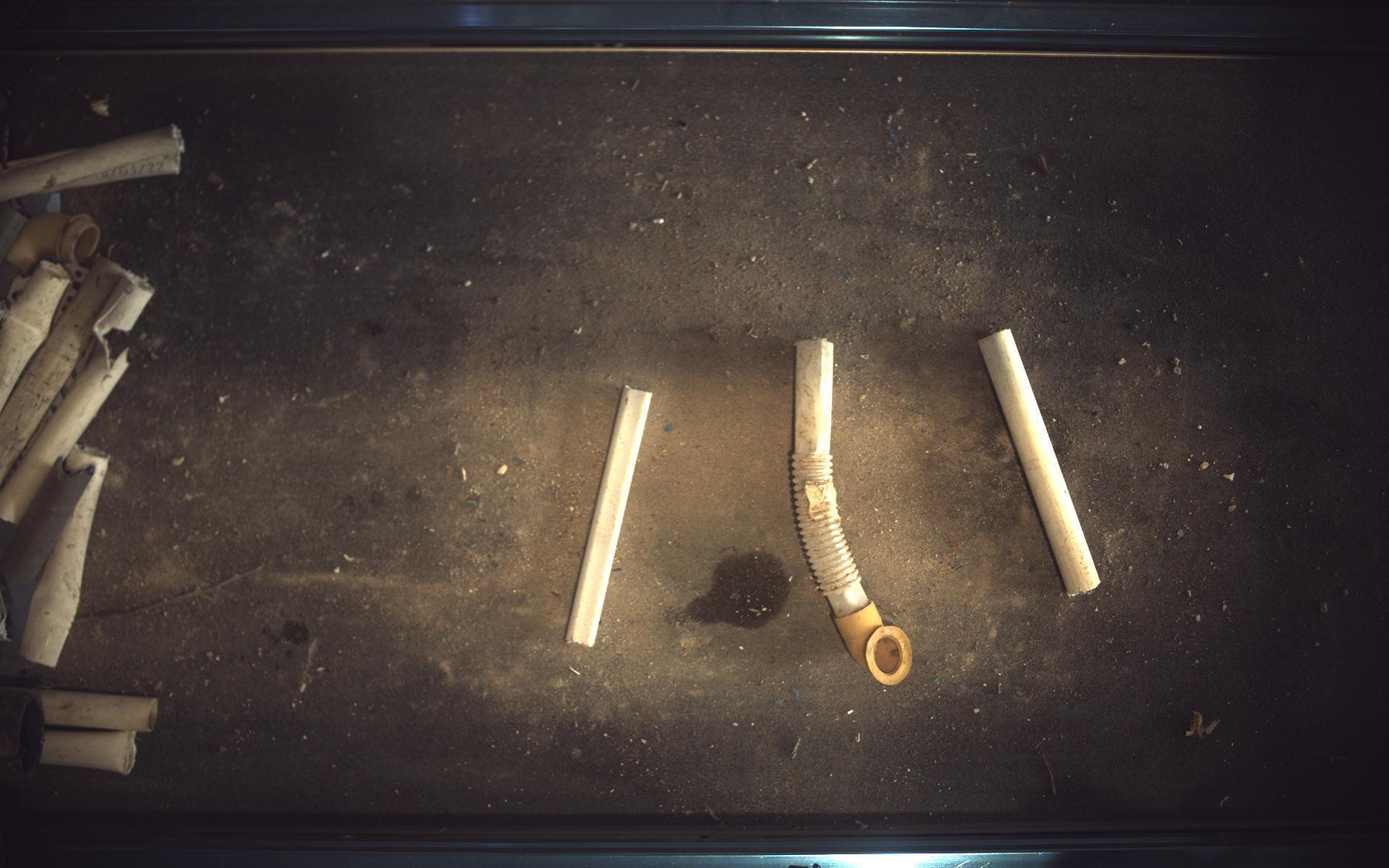pipes: (792, 339, 914, 686), (980, 329, 1103, 597), (1, 258, 124, 484), (1, 352, 127, 524), (18, 448, 107, 668), (1, 459, 94, 646), (1, 124, 184, 200), (24, 690, 157, 733), (4, 212, 98, 270), (36, 731, 134, 776), (7, 259, 70, 327), (98, 271, 154, 331)
plastic: (567, 386, 653, 648)
